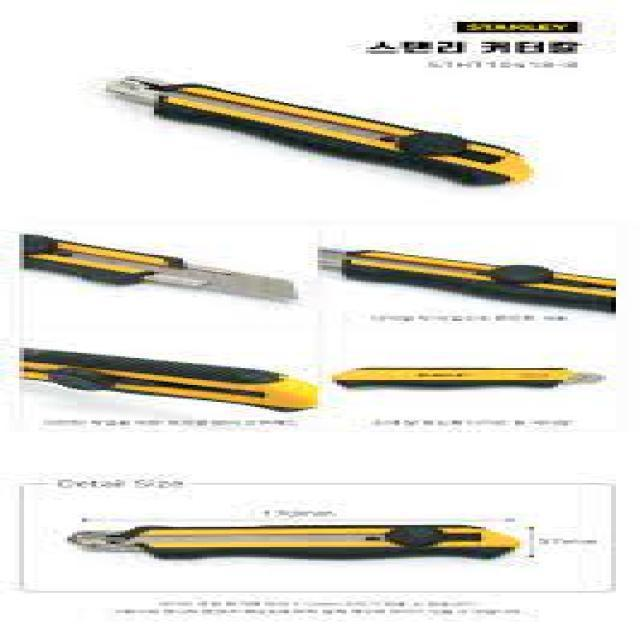cutter: (86, 63, 554, 192), (14, 231, 298, 315), (305, 247, 638, 315), (20, 345, 323, 419), (330, 362, 626, 392)
